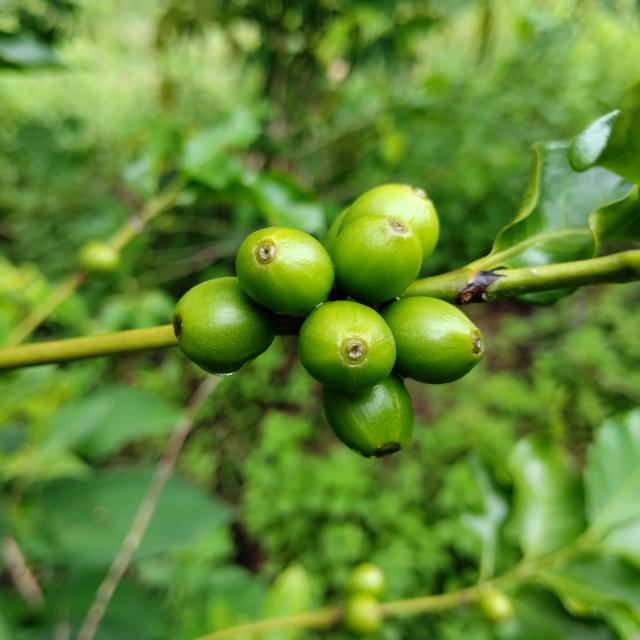green: (173, 277, 276, 375), (380, 296, 484, 384), (298, 300, 396, 393), (236, 226, 334, 314), (331, 215, 423, 304), (338, 183, 440, 262), (322, 374, 414, 458), (325, 206, 349, 254)
